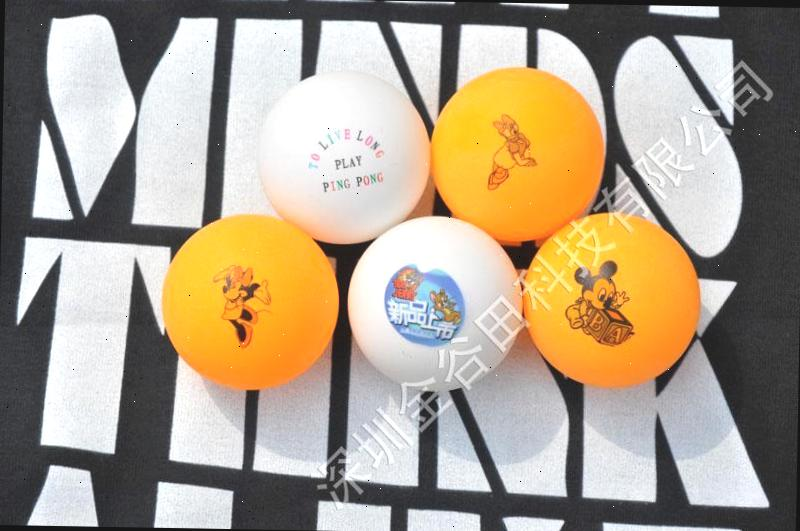ball: (154, 206, 343, 395), (340, 209, 528, 396), (424, 60, 612, 245), (518, 206, 705, 391), (246, 63, 434, 245)
